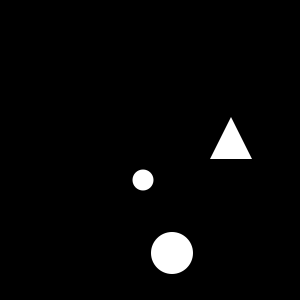rectangle: (151, 232, 193, 274), (132, 169, 154, 190)
triangle: (210, 117, 252, 159)
